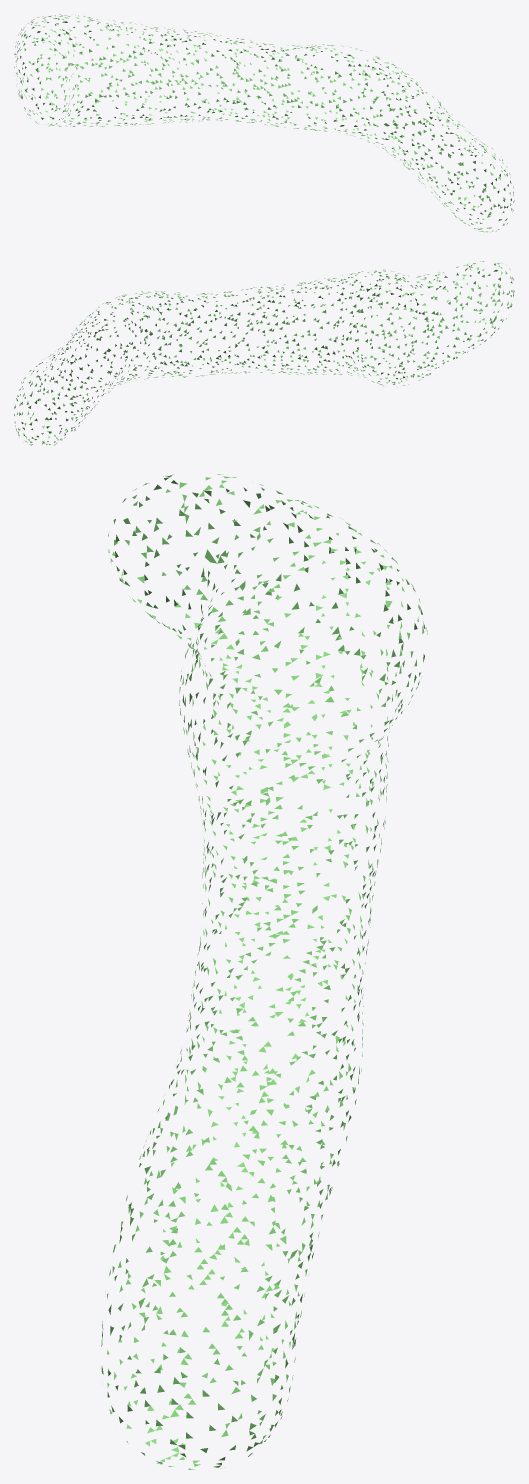
Rendered from morph_016.glb.
3 views of the same model, one above another, from view 1: azimuth 30°, elevation 25°; view 2: azimuth 150°, elevation 25°; view 3: azimuth 270°, elevation 25° (orthographic). The views are drawn at different scales.
Size of the model in its own units: 101 by 58.68 by 30.41.
